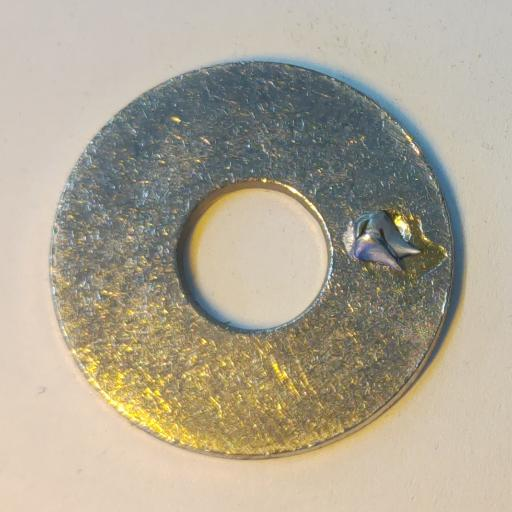excess_material: (346, 209, 422, 275)
